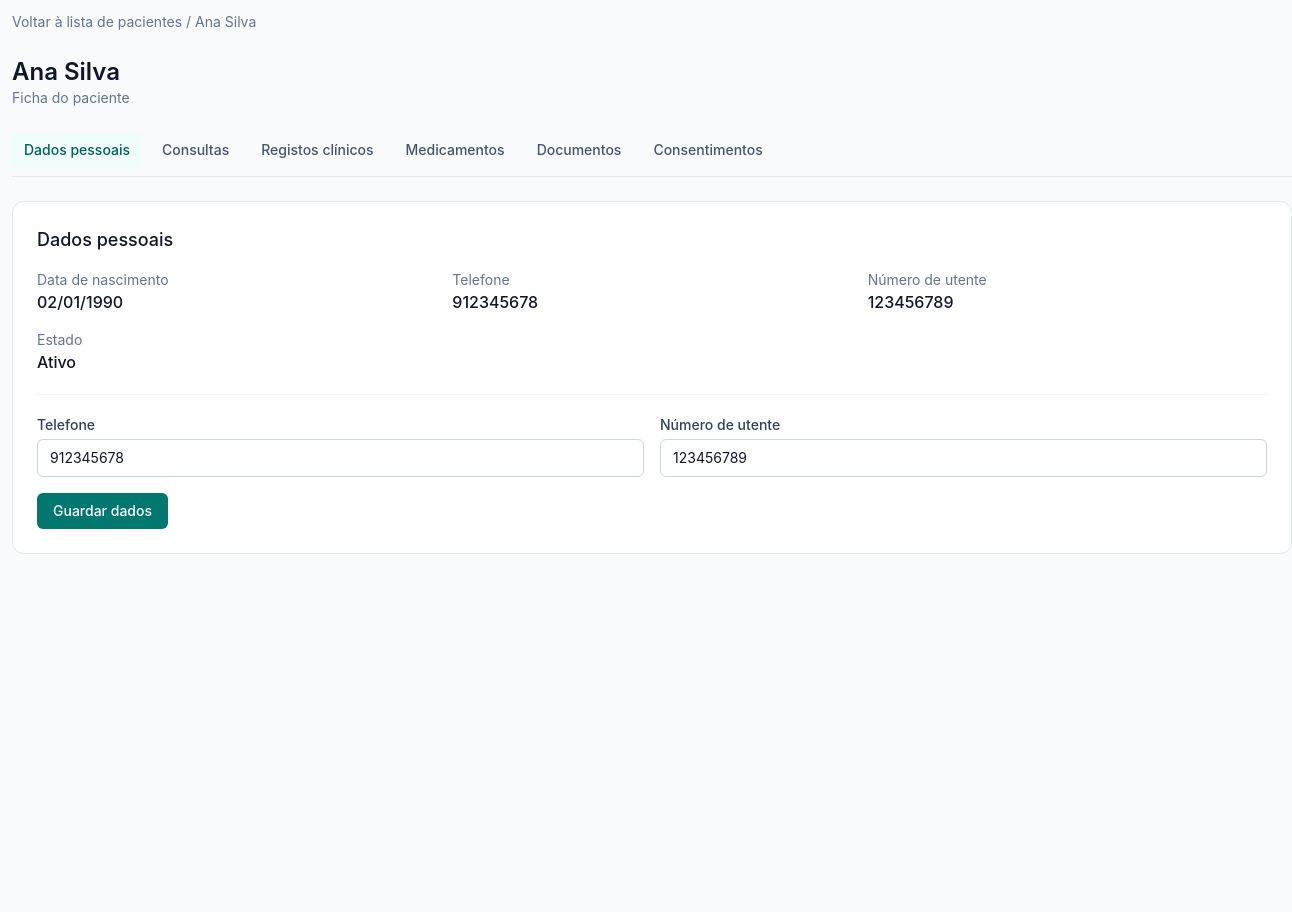
PatientDetailPage medical records (inline section) › requires title and content and sends no request otherwise
Click the tab "Registos clínicos" at (317, 150), box [249,132,386,168]
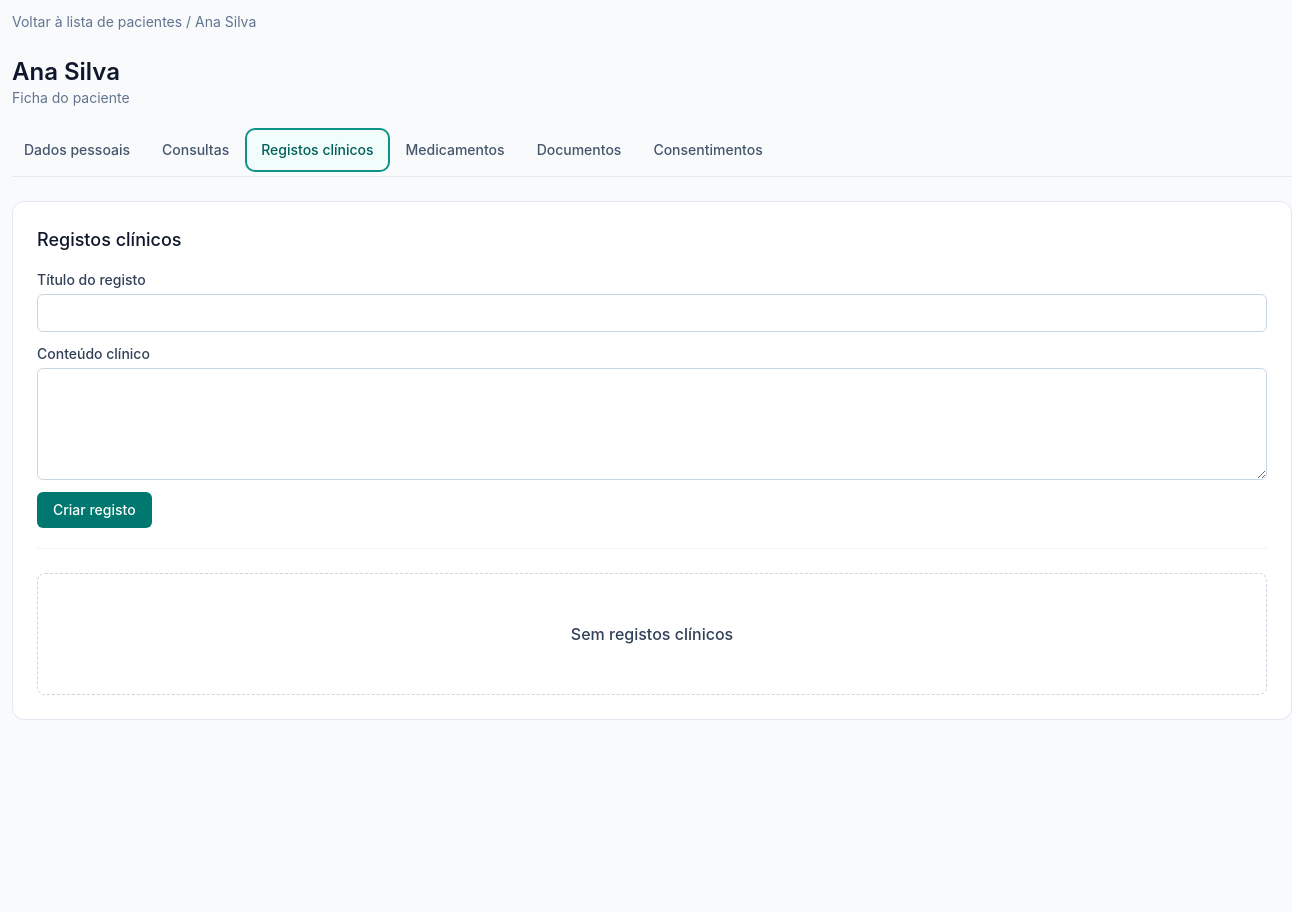
Click the button "Criar registo" at (94, 510), box [37,492,152,528]
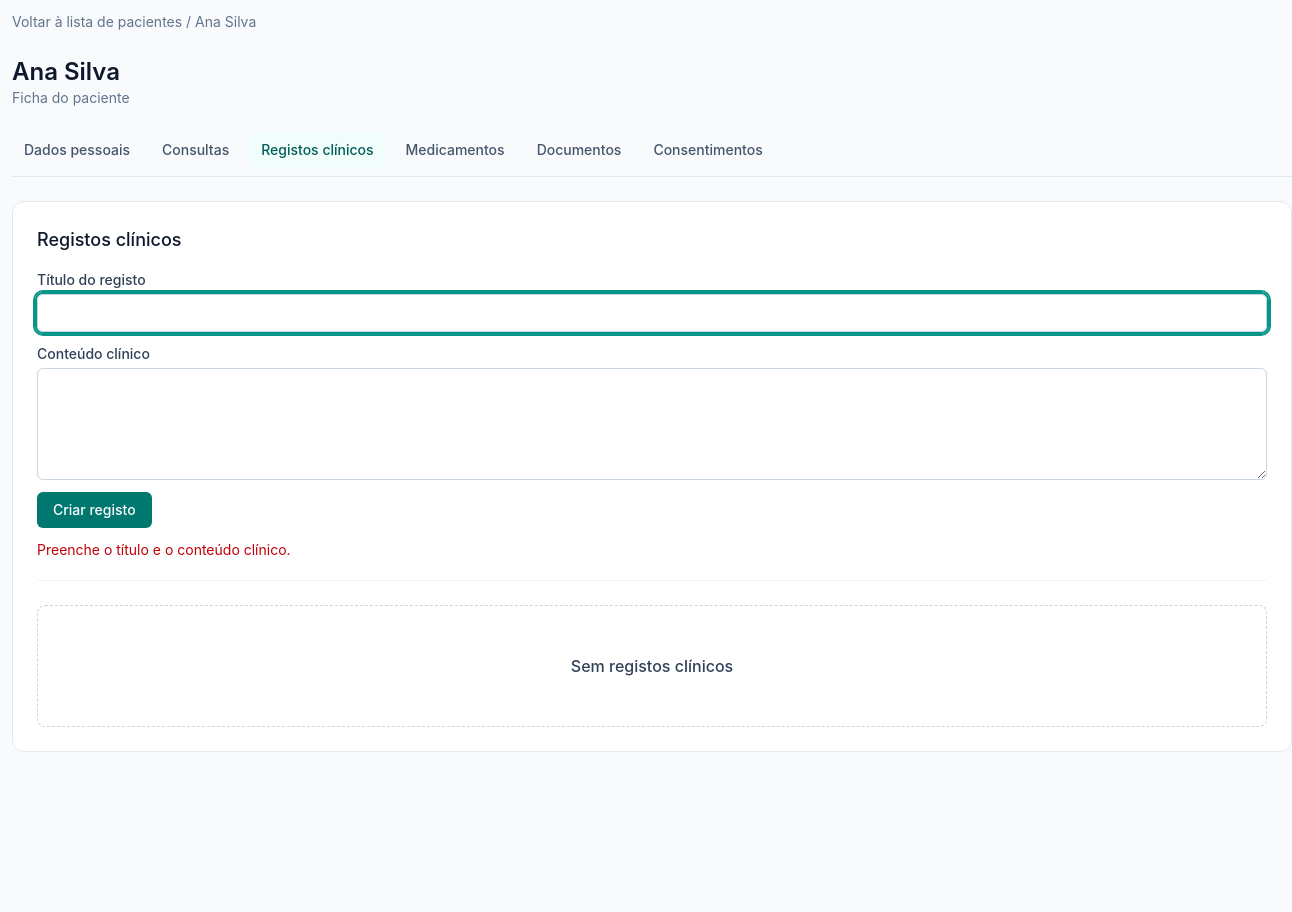
Expected: the message reads "Preenche o título e o conteúdo clínico.", [37,541,291,558]
